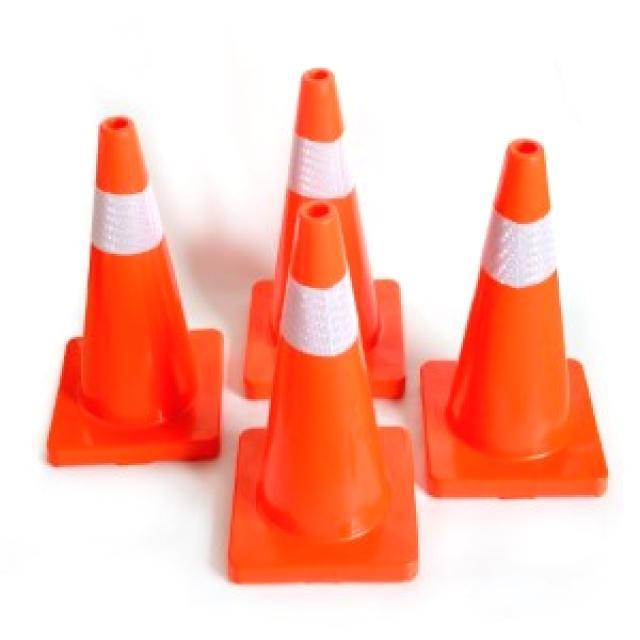traffic cone: (444, 139, 573, 463)
